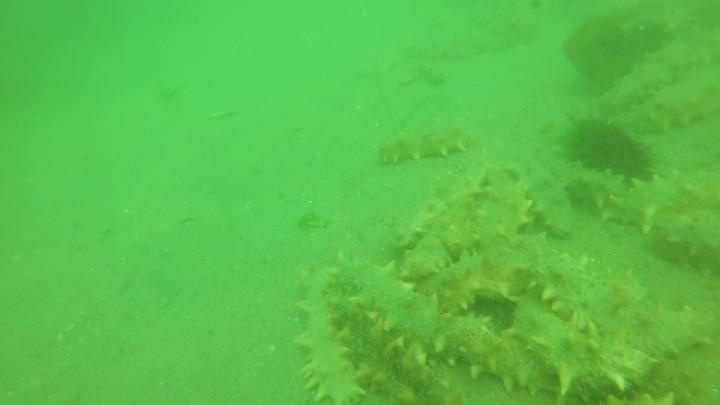echinus: (558, 104, 654, 178)
holothurian: (356, 263, 540, 389), (323, 287, 451, 405), (497, 236, 642, 327), (517, 299, 631, 401), (291, 262, 366, 405), (388, 163, 497, 247), (600, 34, 717, 112), (603, 164, 720, 232), (617, 308, 720, 374), (410, 253, 513, 316), (628, 75, 719, 137), (519, 156, 586, 238), (649, 203, 720, 280), (556, 161, 647, 217), (396, 221, 479, 280), (374, 123, 477, 168), (482, 161, 531, 246)
